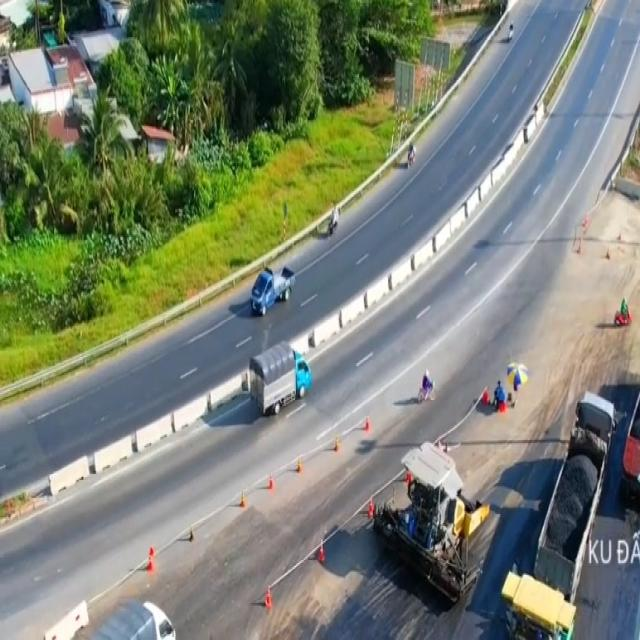motorbike: (614, 294, 632, 327)
truck: (247, 343, 314, 416), (93, 599, 176, 640), (251, 266, 295, 314)
